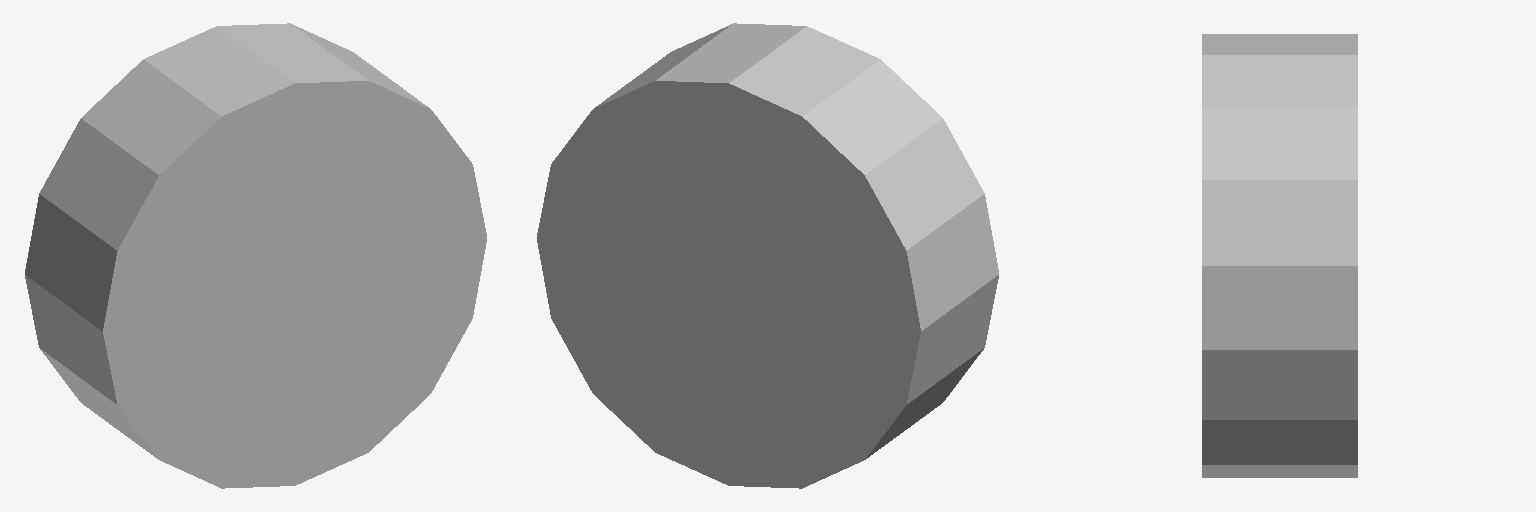
File: wheel.obj
The picture shows the model from 3 angles: view 1: azimuth 30°, elevation 25°; view 2: azimuth 150°, elevation 25°; view 3: azimuth 270°, elevation 25°; orthographic projection.
Parts seen in each view (by area): view 1: Cylinder; view 2: Cylinder; view 3: Cylinder.
Boxes of the visible parts, box(x1,y1,x2,y2) form: Cylinder: box(25, 23, 486, 488); Cylinder: box(537, 23, 998, 488); Cylinder: box(1202, 34, 1357, 477).
Size of the model in its own units: 0.5 by 0.5 by 0.1764.